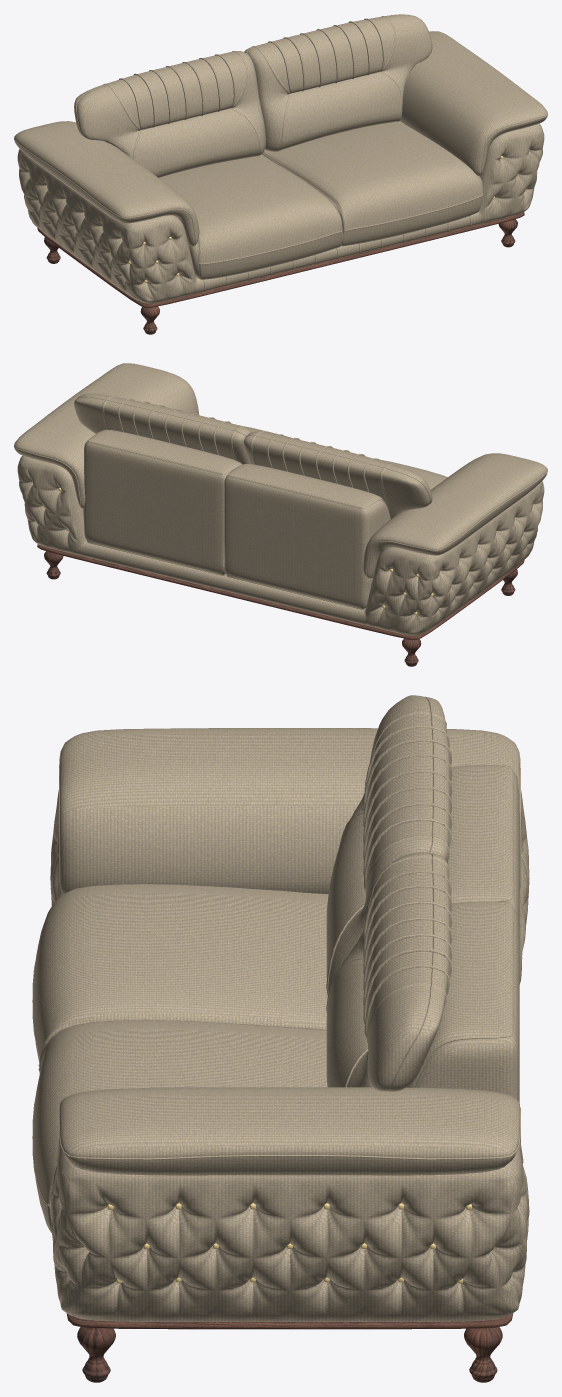
Rendered from Sofa_Straight_6.glb.
The picture shows the model from 3 angles, top to bottom: view 1: azimuth 30°, elevation 25°; view 2: azimuth 150°, elevation 25°; view 3: azimuth 270°, elevation 25°; orthographic projection. The views are drawn at different scales.
Visible parts, largest first — view 1: hesonnaFabricSofa_C4-1_001; view 2: hesonnaFabricSofa_C4-1_001; view 3: hesonnaFabricSofa_C4-1_001.
Boxes of the visible parts, x1,y1,x2,y2 form: hesonnaFabricSofa_C4-1_001: (14,14,547,334); hesonnaFabricSofa_C4-1_001: (14,363,547,666); hesonnaFabricSofa_C4-1_001: (32,695,529,1382).
Size of the model in its own units: 2.24 by 0.8975 by 1.12.
3 materials, 2 textured.
